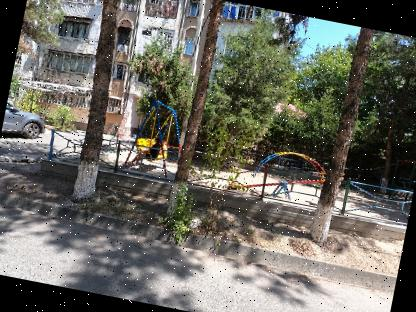tree: (298, 23, 377, 256), (56, 0, 140, 206), (157, 0, 232, 228)
